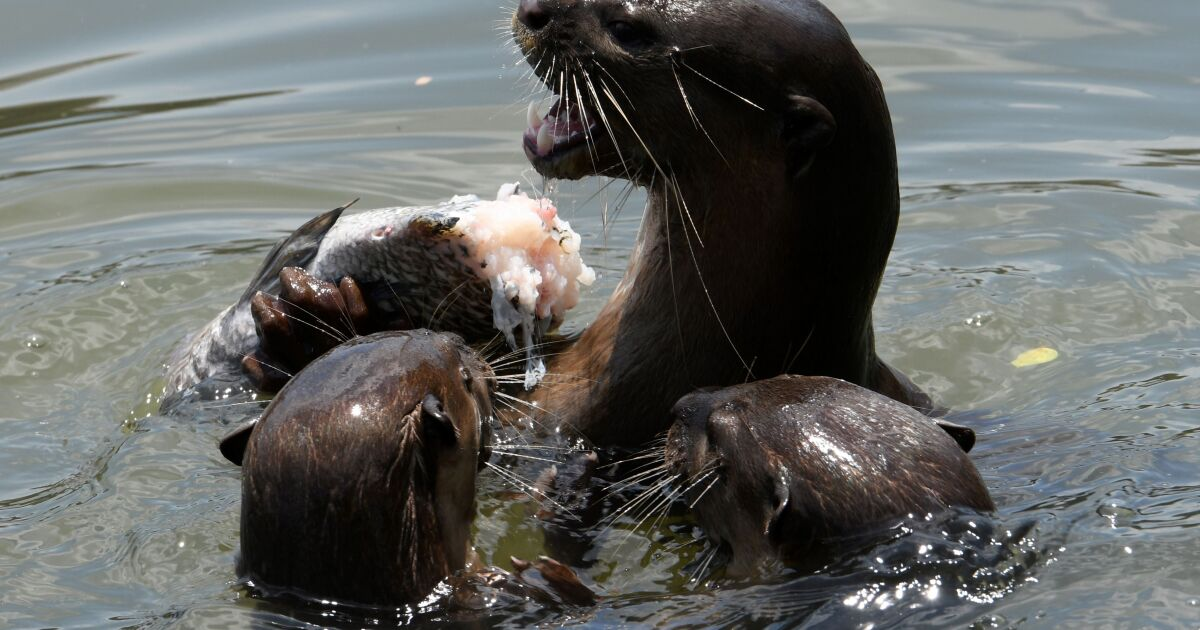otter: (492, 2, 945, 456), (224, 309, 512, 615), (647, 371, 1014, 591)
